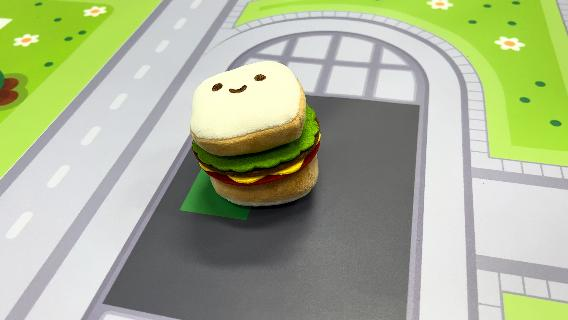sandwich: (188, 59, 324, 208)
